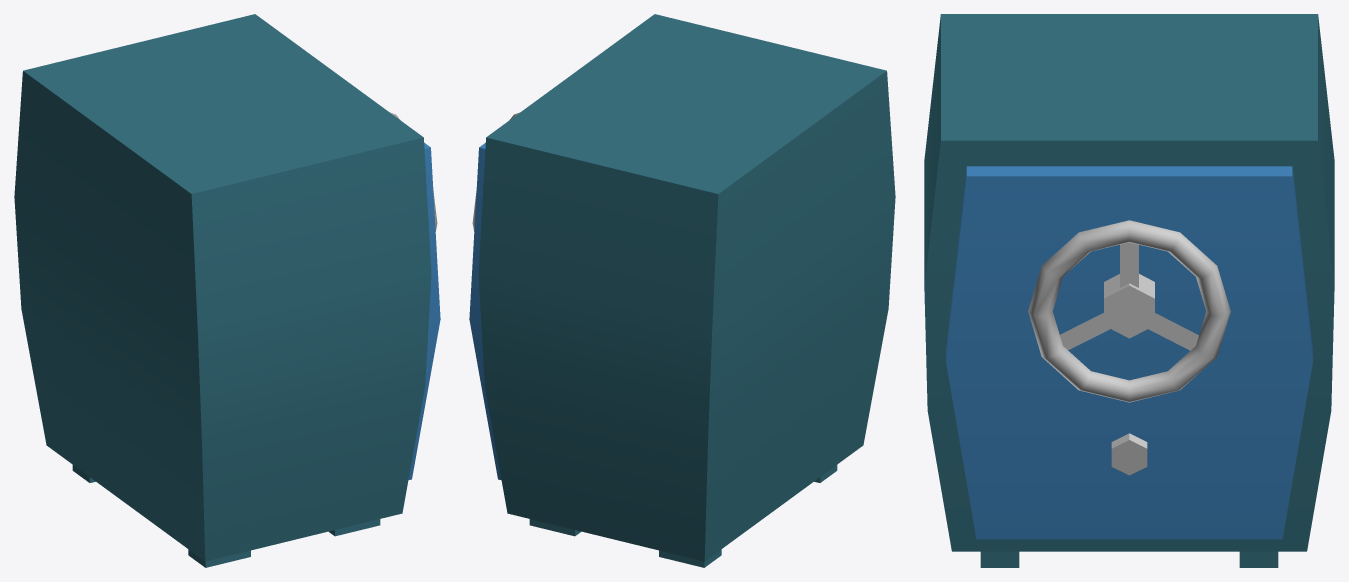
File: Safe.fbx
3 renders of one model, left to right at view 1: azimuth 30°, elevation 25°; view 2: azimuth 150°, elevation 25°; view 3: azimuth 270°, elevation 25°, orthographic. The views are drawn at different scales.
Visible parts, largest first — view 1: Safe; view 2: Safe; view 3: Safe.
Part boxes in pixels (x1,y1,x2,y2): Safe: (14,14,440,567); Safe: (469,14,895,567); Safe: (924,14,1334,567).
Size of the model in its own units: 127 by 165 by 139.
